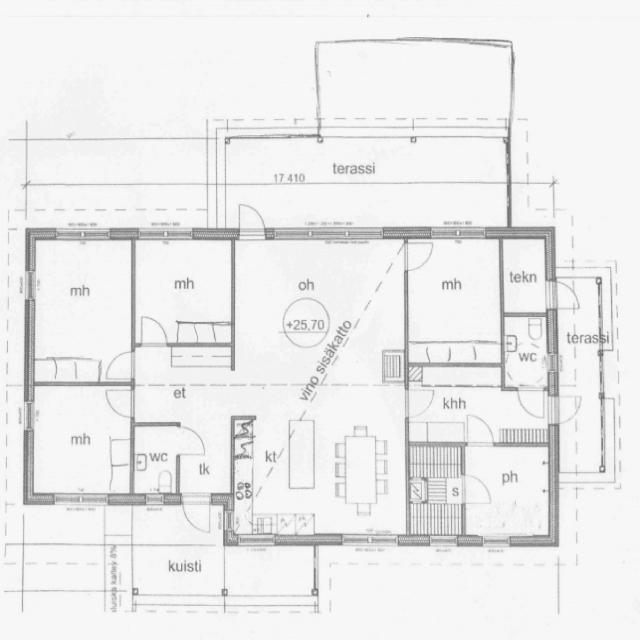door: (180, 492, 213, 536), (102, 383, 138, 420), (463, 411, 497, 450), (402, 384, 437, 420), (103, 346, 138, 382), (461, 471, 495, 508), (137, 312, 171, 348), (236, 200, 268, 238), (548, 278, 582, 312), (516, 384, 548, 420), (174, 424, 207, 458), (403, 238, 435, 273), (552, 392, 582, 425)
window: (309, 228, 387, 245), (338, 531, 402, 550), (431, 225, 489, 242), (52, 491, 108, 508), (137, 226, 195, 242), (53, 227, 112, 242), (271, 226, 318, 242), (236, 534, 278, 550), (21, 396, 37, 435), (21, 266, 37, 303), (478, 533, 515, 549), (595, 352, 608, 396), (427, 535, 459, 548), (143, 492, 165, 507)
zone: (234, 239, 408, 539), (134, 236, 234, 424), (30, 234, 134, 384), (28, 382, 133, 502), (407, 237, 502, 366), (462, 444, 552, 544), (404, 443, 465, 534), (502, 233, 550, 316), (502, 312, 552, 388), (133, 423, 178, 498), (236, 200, 268, 240), (174, 423, 208, 459)
